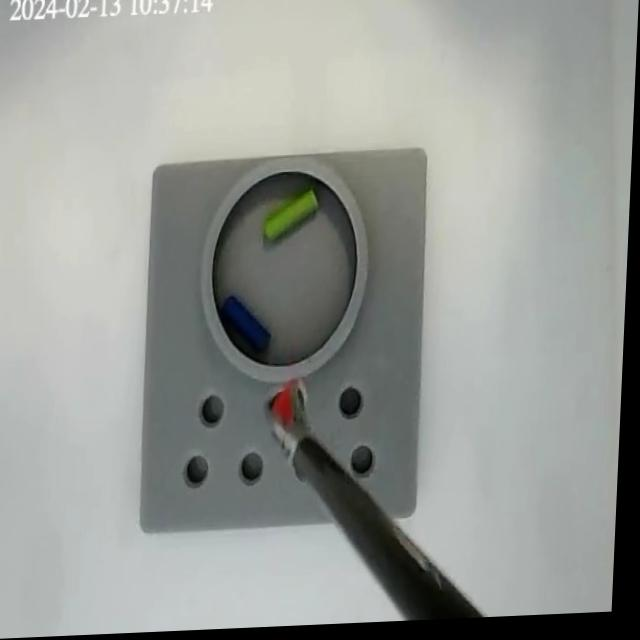EmptyHole: (270, 389, 304, 430), (200, 391, 231, 431), (351, 445, 383, 482), (186, 452, 215, 491), (340, 386, 369, 423), (299, 449, 327, 486), (241, 451, 268, 489)
